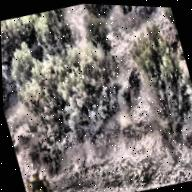boar: (117, 80, 137, 112), (130, 75, 148, 101), (123, 63, 139, 88)
